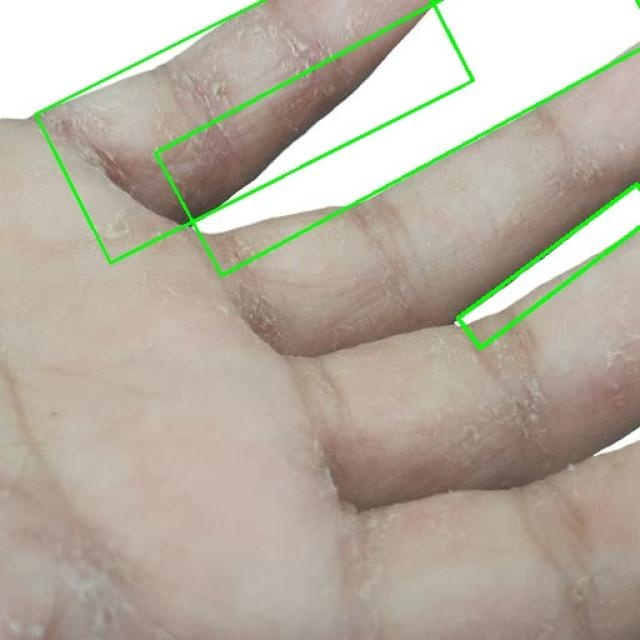Scabies: (156, 0, 640, 276), (35, 0, 473, 263), (458, 184, 640, 348)
